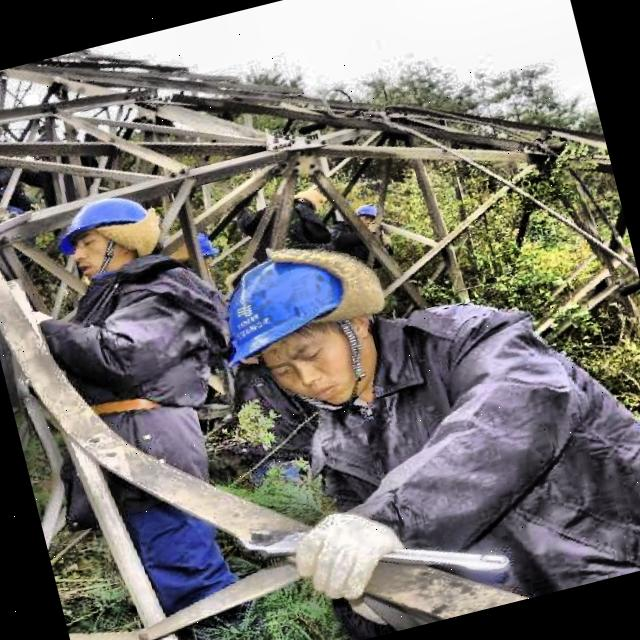helmet: (197, 226, 398, 429), (45, 180, 168, 286)
